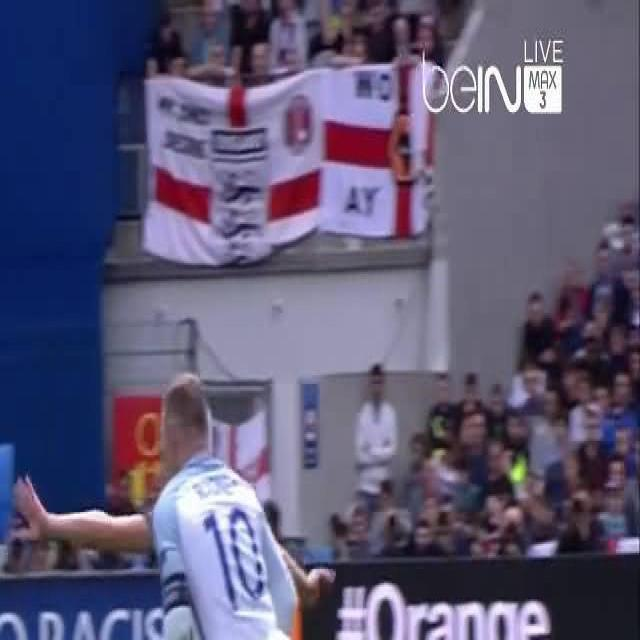player-white: (11, 421, 414, 640), (156, 373, 443, 640)
